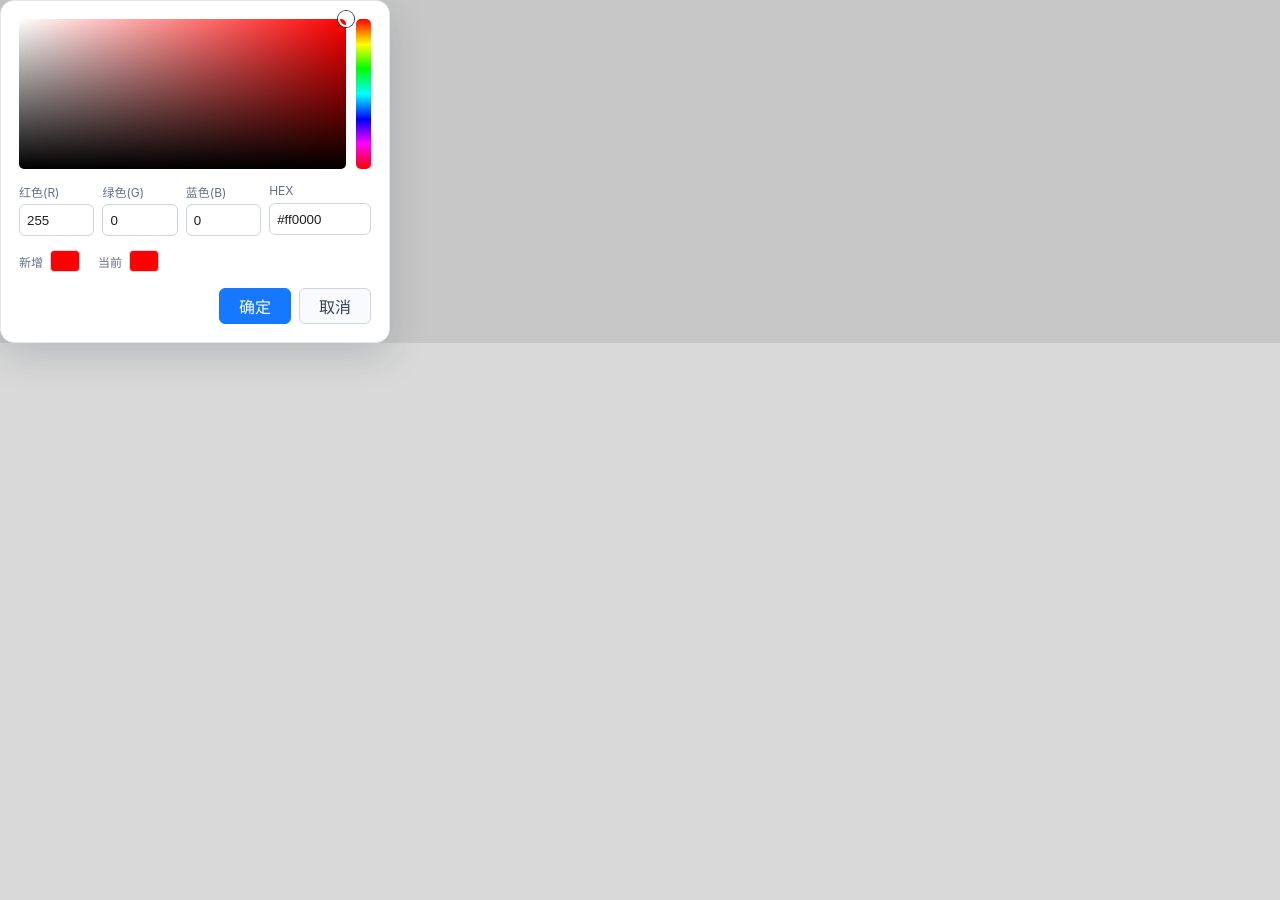
it: ColorPicker › marks invalid HEX and disables confirmation
Replace the text in the field labelled "HEX" with "#12ab". click: {"x": 320, "y": 219}
box: x1=269 y1=203 x2=371 y2=235
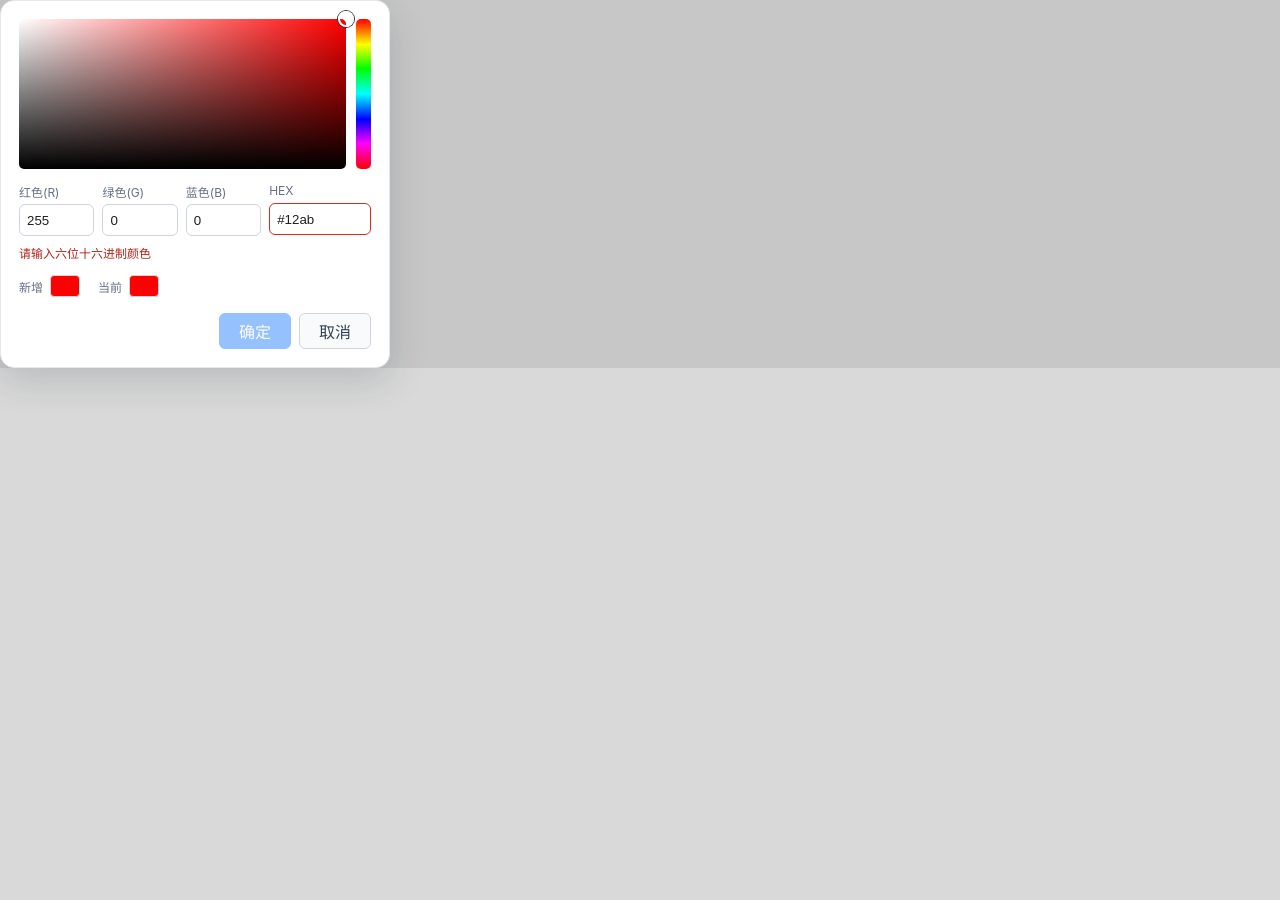
Result: the button "确定" is disabled at x1=219 y1=313 x2=291 y2=349
